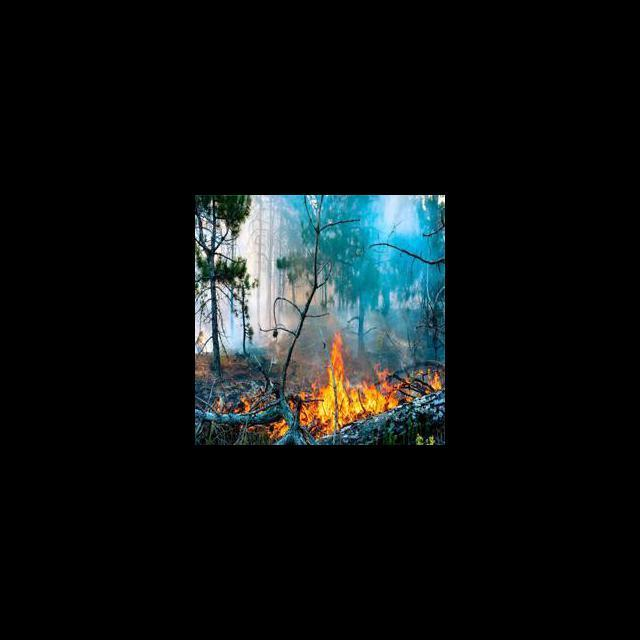Fire: (215, 331, 444, 444)
